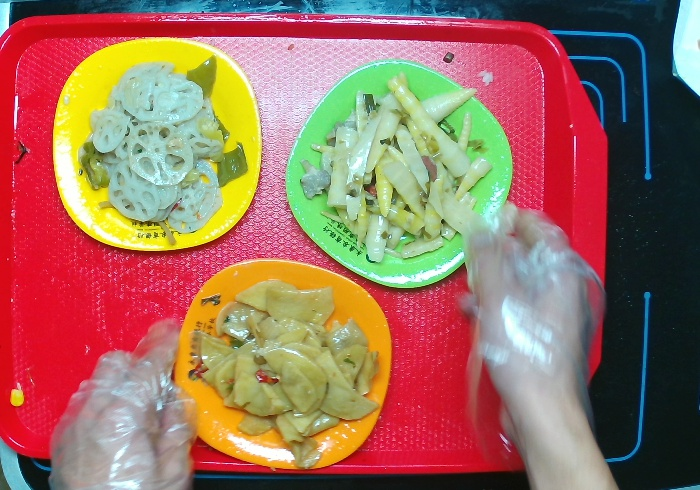YKMZ-Huang_Se_Fang_Die: (51, 36, 263, 251)
YKMZ-Ju_Se_Fang_Die: (167, 257, 395, 472)
YKMZ-Lv_Se_Fang_Die: (284, 60, 515, 292)
